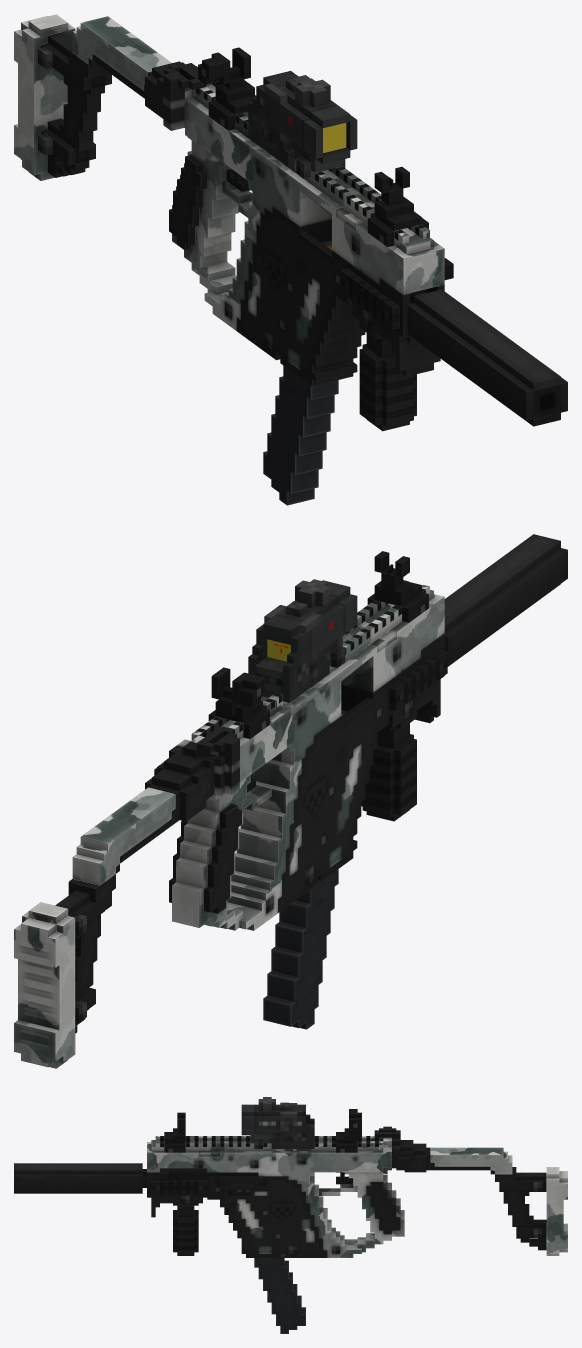
Rendered from RD_KRISS_SNOW.glb.
The picture shows the model from 3 angles, top to bottom: view 1: azimuth 30°, elevation 25°; view 2: azimuth 150°, elevation 25°; view 3: azimuth 270°, elevation 25°; orthographic projection. The views are drawn at different scales.
Visible parts, largest first — view 1: KRISS_VECTOR, SILENCER_6X6, KRISS_VECTOR_CLIP2, SCOPE_TASCO, KRISS_VECTOR_GRIP, KRISS_VECTOR_SCOPE, SCOPE_EOTECH, SCOPE_HOLOSUN; view 2: KRISS_VECTOR, SILENCER_6X6, KRISS_VECTOR_CLIP2, SCOPE_TASCO, KRISS_VECTOR_GRIP, KRISS_VECTOR_SCOPE, SCOPE_EOTECH, SCOPE_HOLOSUN; view 3: KRISS_VECTOR, SILENCER_6X6, KRISS_VECTOR_CLIP2, KRISS_VECTOR_GRIP, SCOPE_TASCO, KRISS_VECTOR_SCOPE, SCOPE_EOTECH, SCOPE_HOLOSUN, KRISS_VECTOR_BOLT.
Boxes of the visible parts, bbox=[...] form: KRISS_VECTOR: bbox=[14, 14, 444, 381]; SILENCER_6X6: bbox=[407, 289, 567, 426]; KRISS_VECTOR_CLIP2: bbox=[263, 365, 338, 505]; SCOPE_TASCO: bbox=[256, 71, 357, 178]; KRISS_VECTOR_GRIP: bbox=[351, 300, 440, 431]; KRISS_VECTOR_SCOPE: bbox=[198, 47, 428, 246]; SCOPE_EOTECH: bbox=[248, 94, 342, 172]; SCOPE_HOLOSUN: bbox=[248, 75, 310, 160]; KRISS_VECTOR: bbox=[14, 580, 447, 1068]; SILENCER_6X6: bbox=[444, 534, 567, 666]; KRISS_VECTOR_CLIP2: bbox=[263, 869, 338, 1029]; SCOPE_TASCO: bbox=[256, 579, 357, 685]; KRISS_VECTOR_GRIP: bbox=[361, 679, 440, 821]; KRISS_VECTOR_SCOPE: bbox=[208, 551, 428, 738]; SCOPE_EOTECH: bbox=[248, 631, 342, 702]; SCOPE_HOLOSUN: bbox=[256, 605, 321, 701]; KRISS_VECTOR: bbox=[142, 1126, 567, 1257]; SILENCER_6X6: bbox=[14, 1163, 142, 1193]; KRISS_VECTOR_CLIP2: bbox=[254, 1254, 305, 1333]; KRISS_VECTOR_GRIP: bbox=[151, 1195, 202, 1255]; SCOPE_TASCO: bbox=[241, 1097, 305, 1148]; KRISS_VECTOR_SCOPE: bbox=[164, 1109, 361, 1152]; SCOPE_EOTECH: bbox=[250, 1114, 314, 1148]; SCOPE_HOLOSUN: bbox=[280, 1103, 314, 1148]; KRISS_VECTOR_BOLT: bbox=[160, 1168, 207, 1181].
Size of the model in its own units: 0.1082 by 0.5806 by 1.27.
9 materials, 9 textured.
